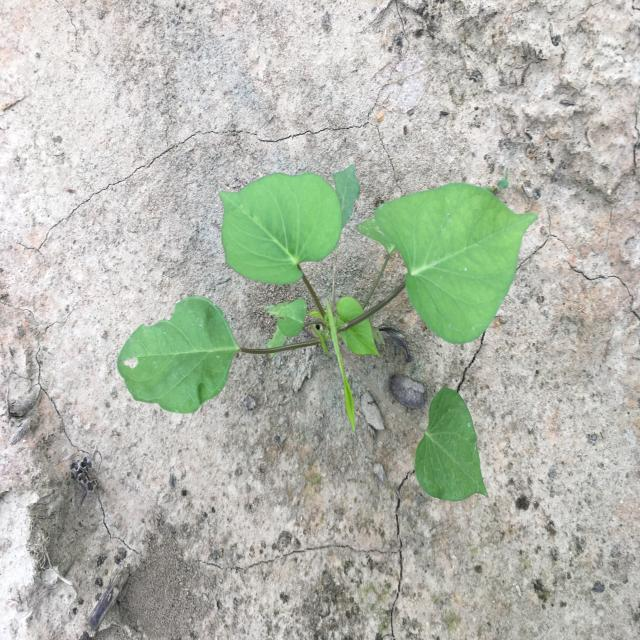MorningGlory: (117, 164, 539, 502)
